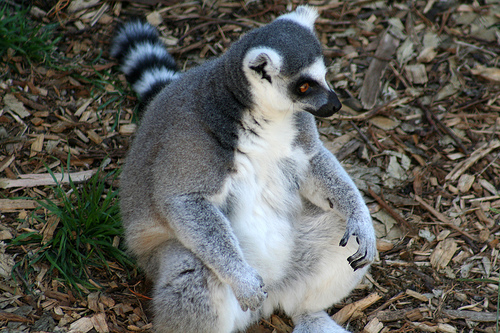cat: (108, 4, 380, 332)
